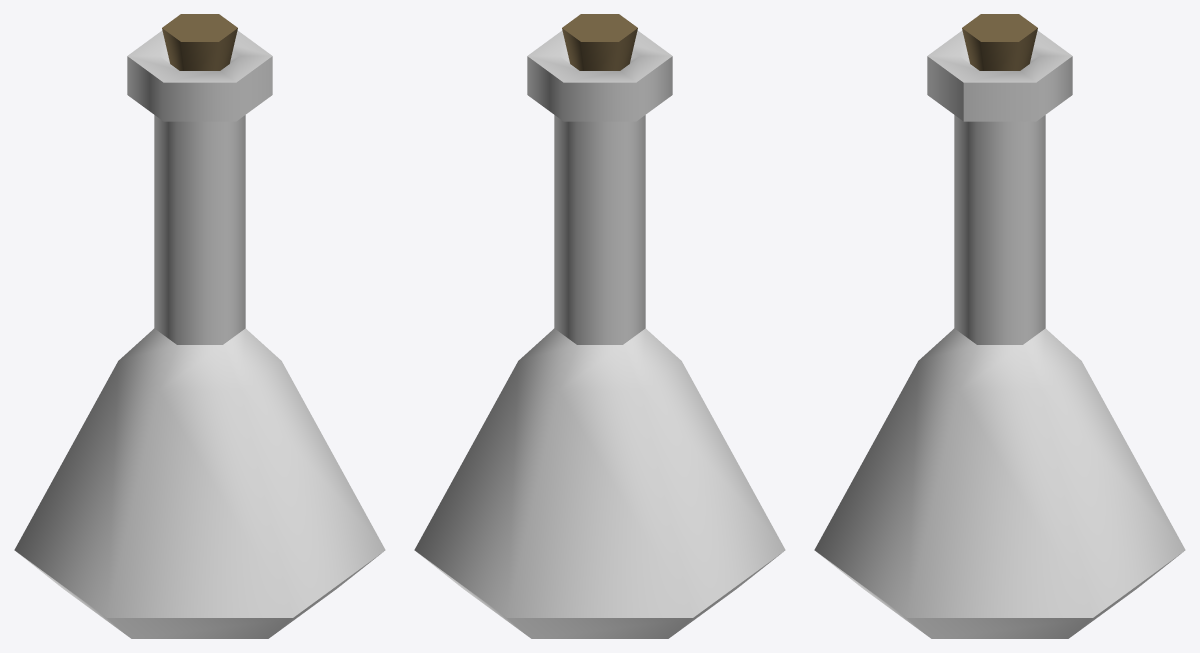
The model's file is Potion_Red.glb.
3 renders of one model, left to right at view 1: azimuth 30°, elevation 25°; view 2: azimuth 150°, elevation 25°; view 3: azimuth 270°, elevation 25°, orthographic.
Visible parts, largest first — view 1: Potion_Red; view 2: Potion_Red; view 3: Potion_Red.
Part boxes in pixels (<box>): Potion_Red: <box>14,14,385,638</box>; Potion_Red: <box>414,14,785,638</box>; Potion_Red: <box>814,14,1185,638</box>.
Bounding box in the file's own units: 0.1269 × 0.2442 × 0.1465.
2 materials, 1 textured.
